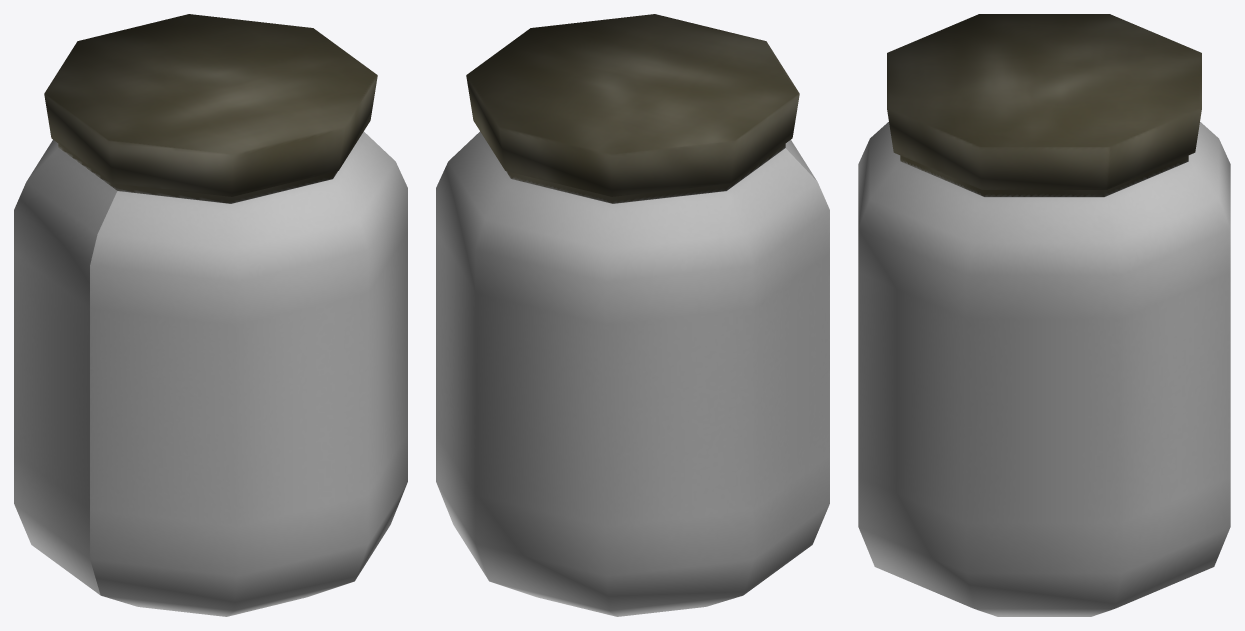
The model's file is MossJar.fbx.
The picture shows the model from 3 angles, left to right: view 1: azimuth 30°, elevation 25°; view 2: azimuth 150°, elevation 25°; view 3: azimuth 270°, elevation 25°; orthographic projection.
Parts seen in each view (by area): view 1: MossJarGlass, MossJar; view 2: MossJarGlass, MossJar; view 3: MossJarGlass, MossJar.
Boxes of the visible parts, box(x1,y1,x2,y2) form: MossJarGlass: box(14, 131, 407, 616); MossJar: box(44, 14, 377, 203); MossJarGlass: box(436, 131, 829, 616); MossJar: box(466, 14, 799, 203); MossJarGlass: box(858, 122, 1230, 616); MossJar: box(887, 14, 1201, 196).
Bounding box in the file's own units: 231 × 335 × 231.
